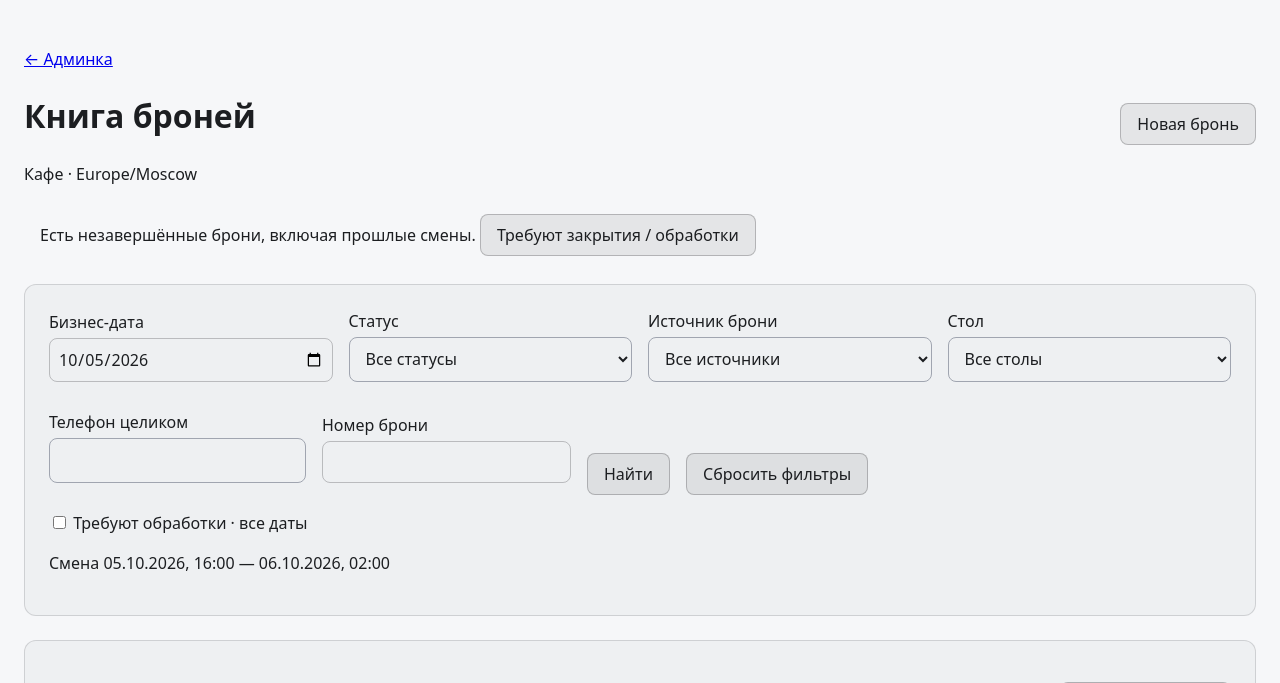
Test: Booking Book › creates PHONE and accepts HTTP 200
Click the button "Новая бронь". click: (1188, 124)
box: [1120,103,1256,145]
(page scrolled)
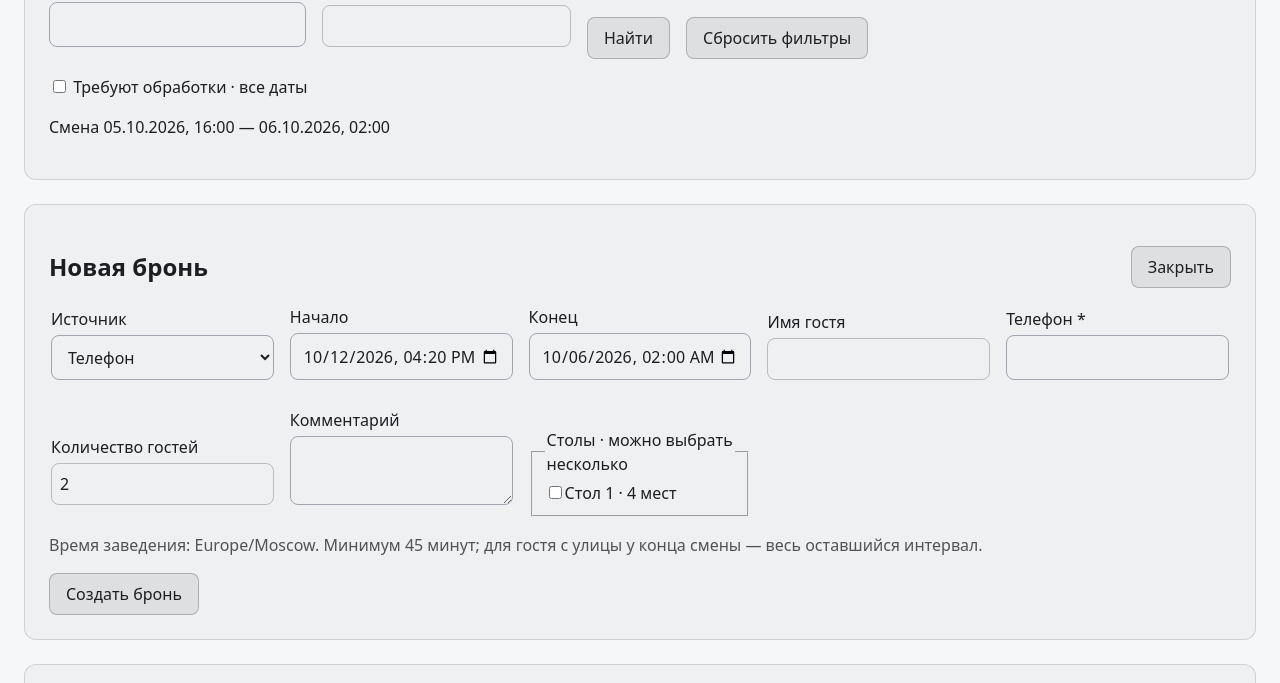
Type "Анна" into the field labelled "Имя гостя". click: (879, 359)
box: [767,338,990,380]
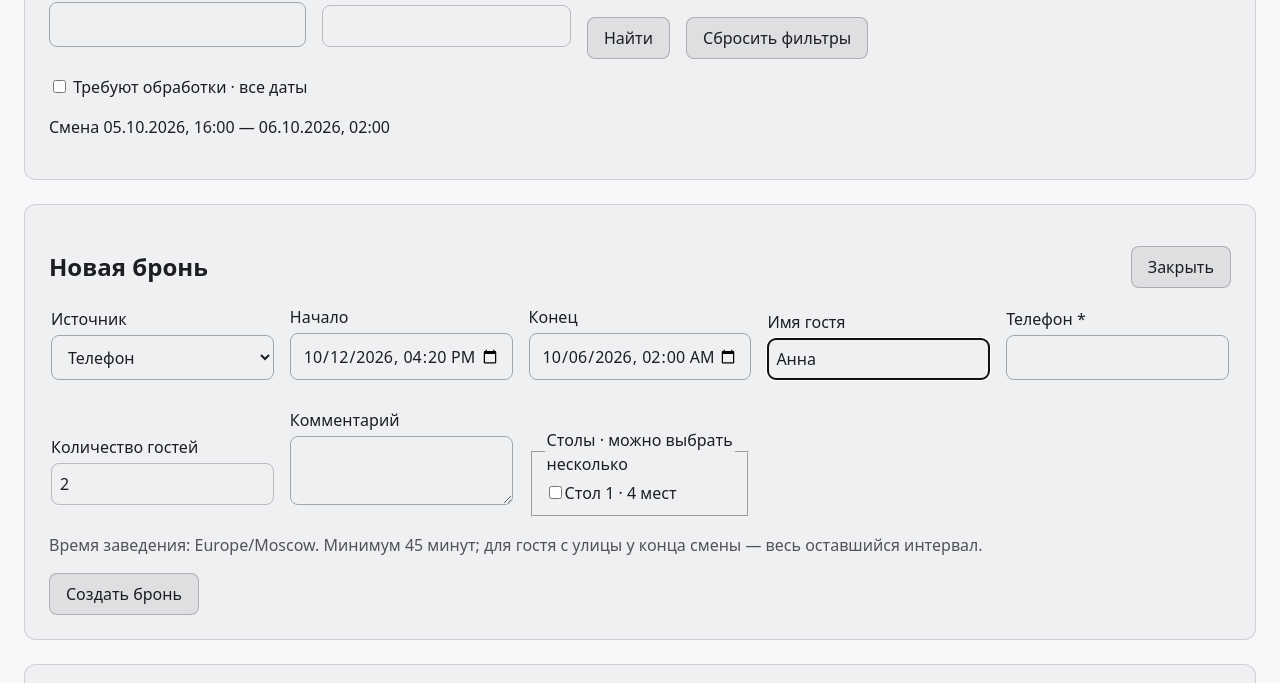
Type "+79990000000" into the field labelled "Телефон *". click: (1118, 358)
box: [1006,335,1229,380]
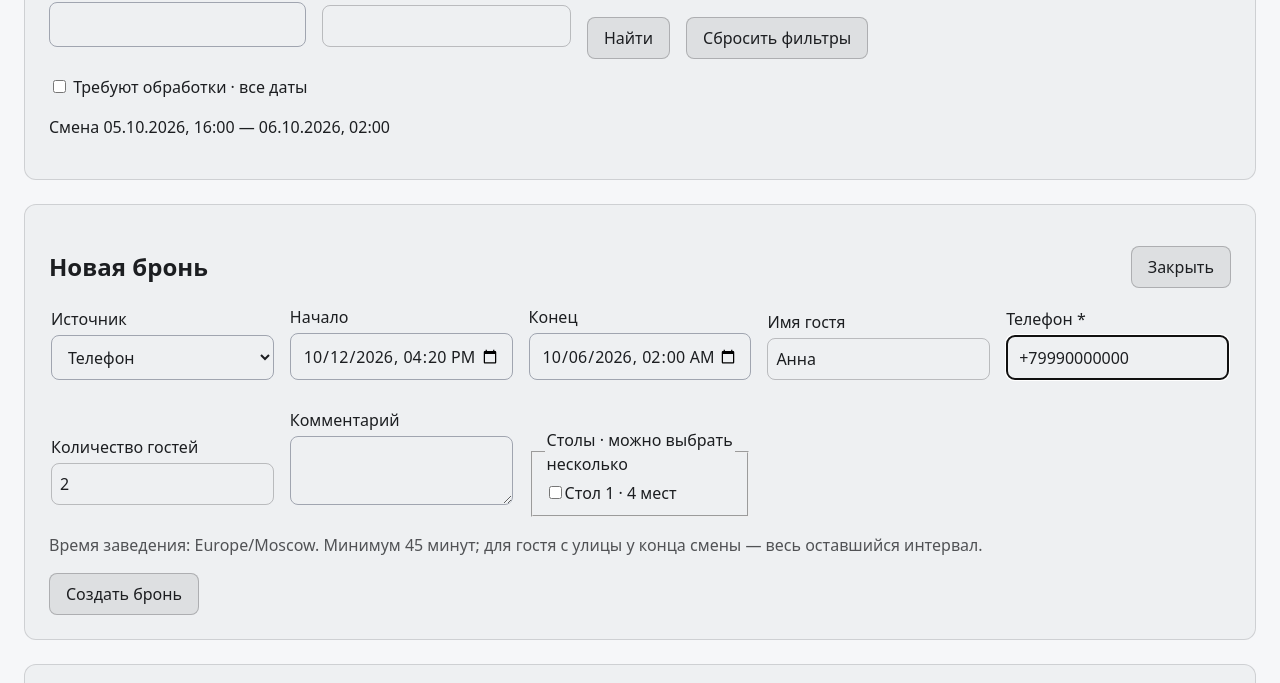
Click the checkbox labelled "Стол 1 · 4 мест". click: (555, 493)
box: [549,486,562,499]
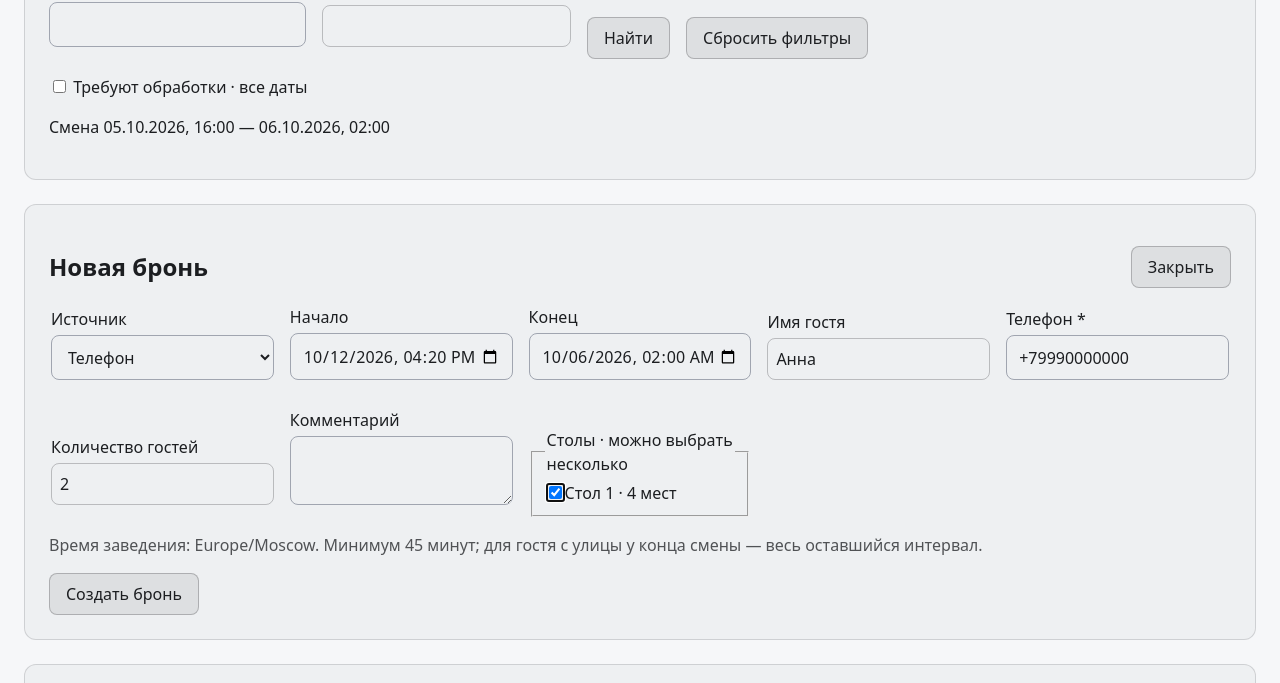
Click the button "Создать бронь". click: (124, 594)
box: [49,573,199,615]
(page scrolled)
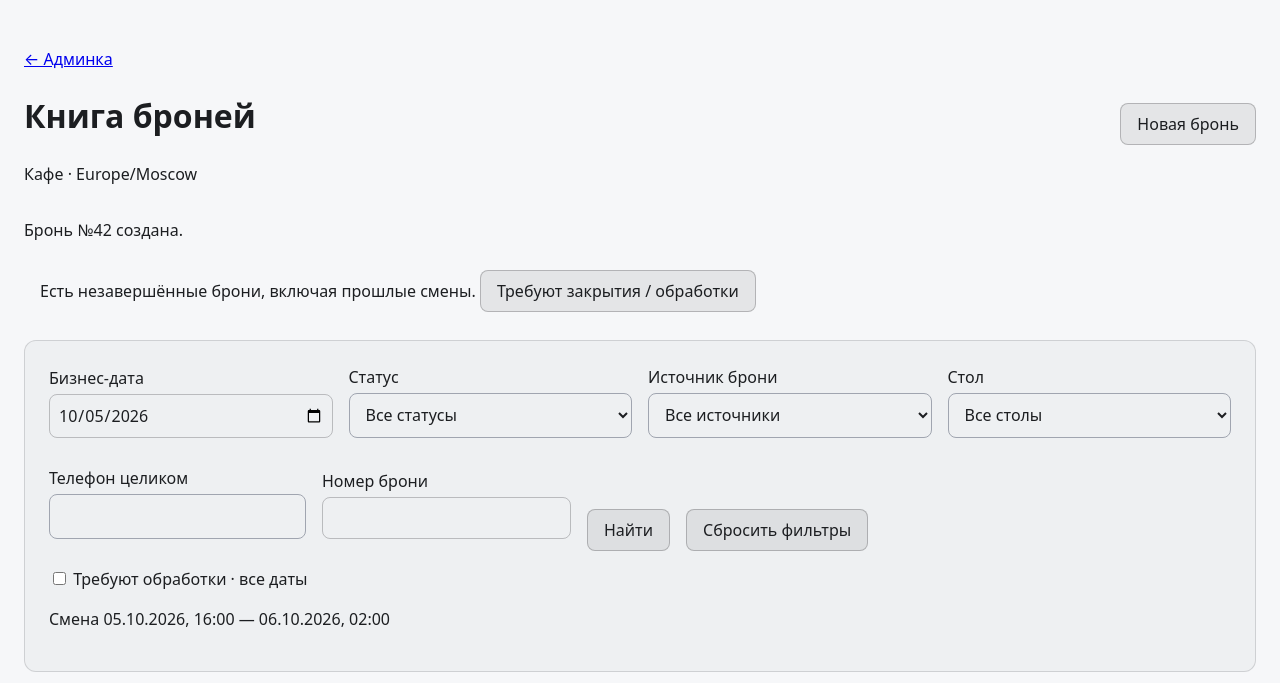
Check: the text "Бронь №42 создана." is shown, box [24,219,183,241]
